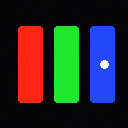0 point: (100, 60, 108, 68)
